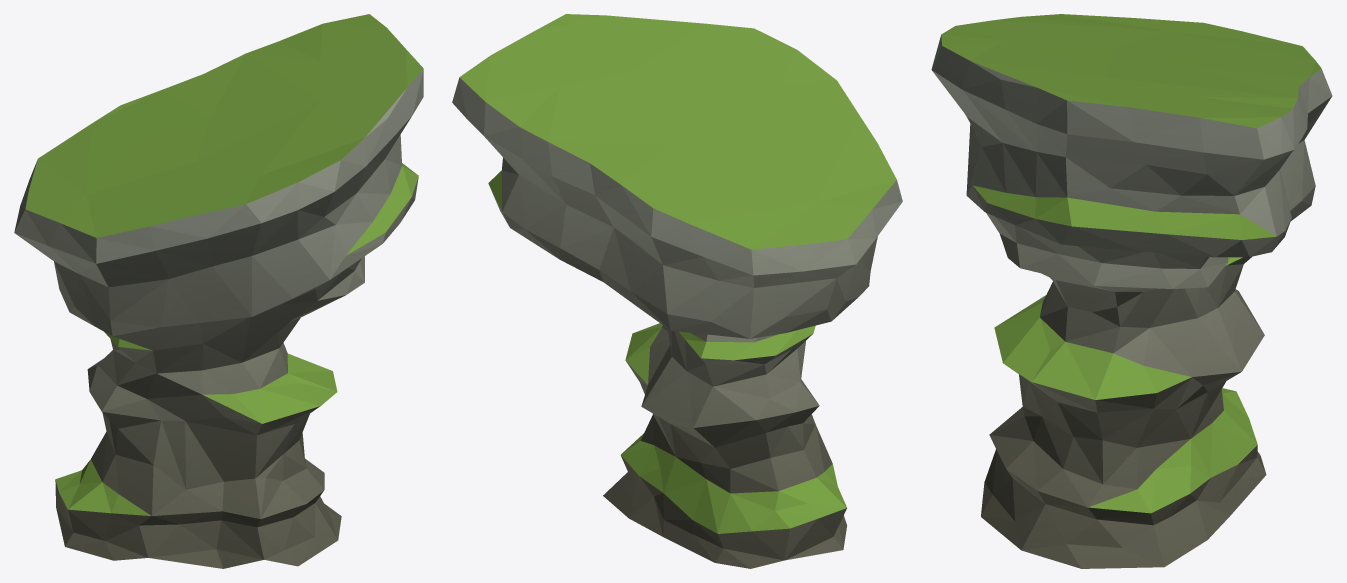
The model's file is ZLP_Rock_D_3.FBX.
The picture shows the model from 3 angles, left to right: view 1: azimuth 30°, elevation 25°; view 2: azimuth 150°, elevation 25°; view 3: azimuth 270°, elevation 25°; orthographic projection. The views are drawn at different scales.
Parts seen in each view (by area): view 1: ZLP_Rock_D_3; view 2: ZLP_Rock_D_3; view 3: ZLP_Rock_D_3.
Boxes of the visible parts, x1=… form: ZLP_Rock_D_3: x1=14, y1=14, x2=423, y2=568; ZLP_Rock_D_3: x1=452, y1=14, x2=902, y2=568; ZLP_Rock_D_3: x1=931, y1=14, x2=1332, y2=568.
Size of the model in its own units: 240 by 261 by 185.
